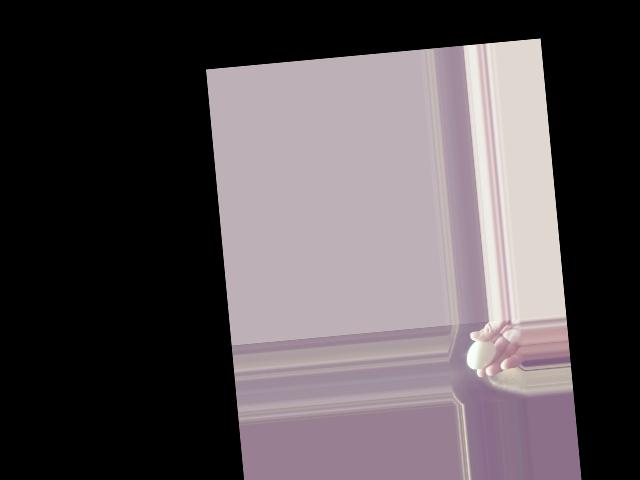egg: (465, 338, 497, 369)
